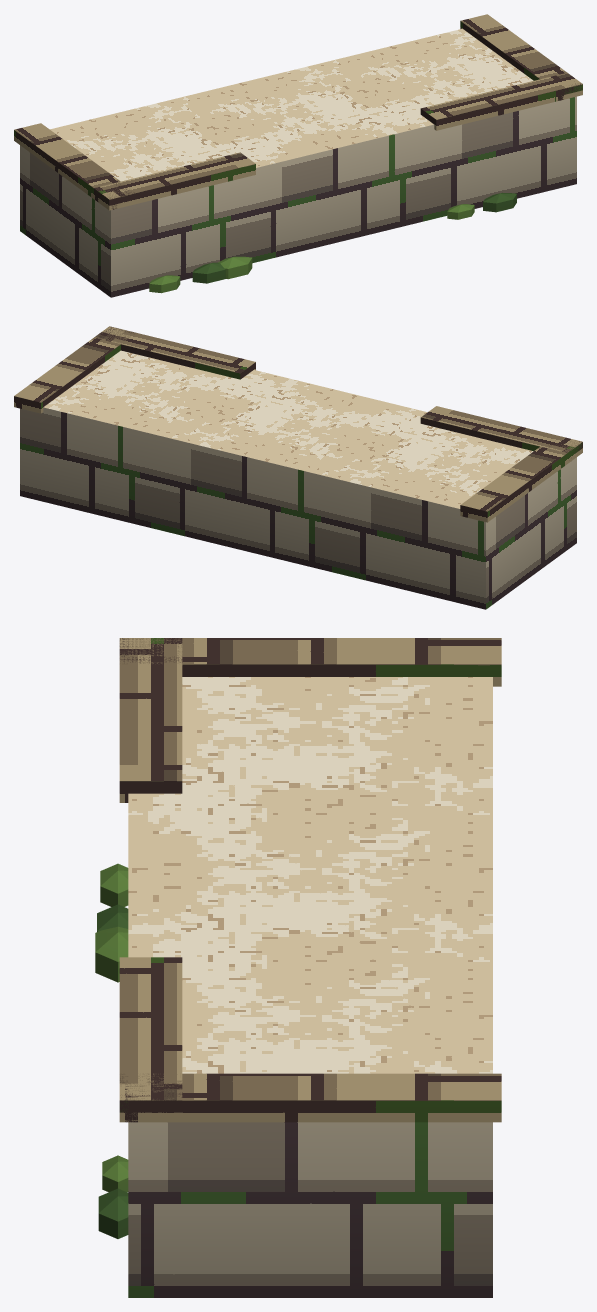
The model's file is scene_plat_f6.glb.
The picture shows the model from 3 angles, top to bottom: view 1: azimuth 30°, elevation 25°; view 2: azimuth 150°, elevation 25°; view 3: azimuth 270°, elevation 25°; orthographic projection. The views are drawn at different scales.
Parts seen in each view (by area): view 1: scene_plat_f6; view 2: scene_plat_f6; view 3: scene_plat_f6.
Part boxes in pixels (x1=…): scene_plat_f6: x1=14, y1=14, x2=582, y2=297; scene_plat_f6: x1=14, y1=326, x2=582, y2=609; scene_plat_f6: x1=95, y1=638, x2=501, y2=1297.
Size of the model in its own units: 6.3 by 1.37 by 2.34.
Materials: 3 (2 with a texture image).
